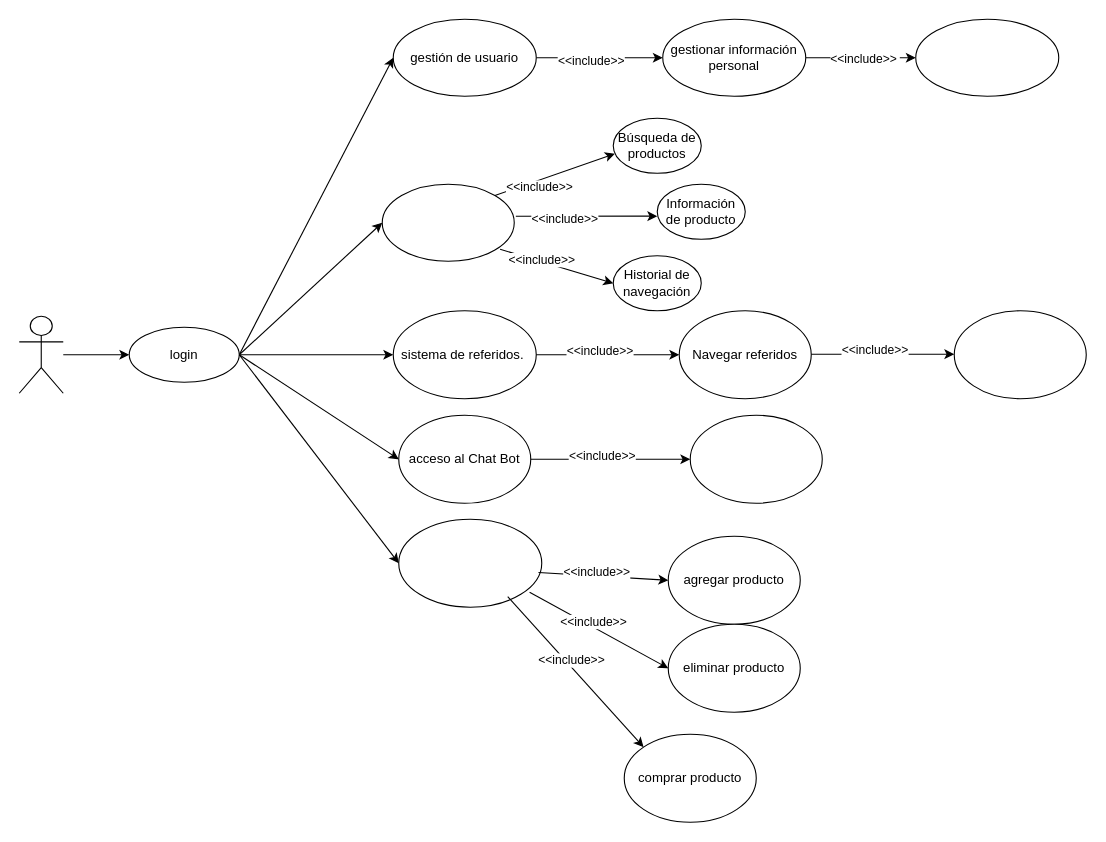
The diagram is 1106 pixels wide and 842 high, and some of its shapes have lost their labels. Here are the shapes that lost their labels. From the top down, the box of each, then its label:
(915, 18, 1059, 96): administración financiera
(381, 183, 514, 261): Navegar productos.
(18, 315, 63, 393): Cliente
(953, 310, 1086, 399): modificar y visualizar referidos
(689, 414, 822, 503): solicitar asesor
(398, 518, 542, 607): gestión de carrito
